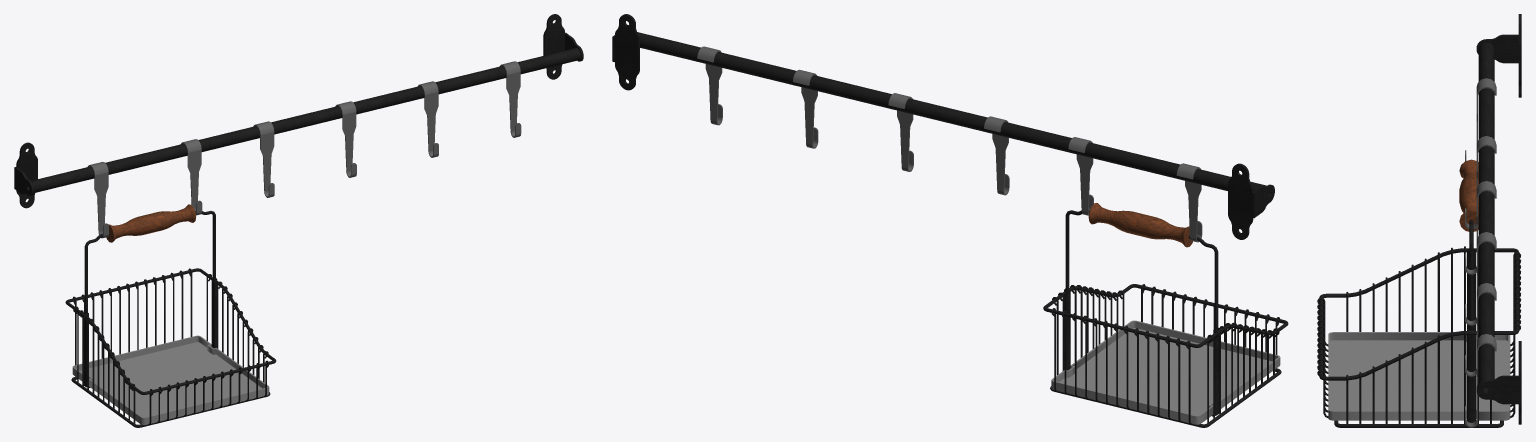
The model's file is 062 - stand divari jadid meshki.glb.
3 views of the same model, side by side, from view 1: azimuth 30°, elevation 25°; view 2: azimuth 150°, elevation 25°; view 3: azimuth 270°, elevation 25° (orthographic). The views are drawn at different scales.
Parts seen in each view (by area): view 1: Group#1 [26930], Group#6 [17909], Group#7 [26909] (×6), Group#13 [26931], Group#88 [26928], [3106], [3989], Group#2 [26929], Group#19 [26926]; view 2: Group#1 [26930], Group#6 [17909], Group#7 [26909] (×6), Group#88 [26928], Group#13 [26931], [3106], [3989], Group#2 [26929], Group#19 [26926]; view 3: Group#1 [26930], Group#6 [17909], Group#7 [26909] (×6), Group#13 [26931], Group#88 [26928], Group#3 [3642], Group#8 [4525], Group#11 [26927], Group#19 [26926], Group#2 [26929], Component#20 [23708] (×2), Component#16 [23699] (×2) (+6 smaller).
Part boxes in pixels (<box>): Group#1 [26930]: <box>72,335,269,424</box>; Group#6 [17909]: <box>31,48,580,192</box>; Group#7 [26909] (×6): <box>87,61,521,238</box>; Group#13 [26931]: <box>65,268,276,394</box>; Group#88 [26928]: <box>106,204,195,242</box>; [3106]: <box>543,14,564,79</box>; [3989]: <box>16,142,37,208</box>; Group#2 [26929]: <box>84,211,215,387</box>; Group#19 [26926]: <box>71,376,270,427</box>; Group#1 [26930]: <box>1051,320,1280,424</box>; Group#6 [17909]: <box>637,32,1266,191</box>; Group#7 [26909] (×6): <box>697,46,1202,242</box>; Group#88 [26928]: <box>1088,203,1192,247</box>; Group#13 [26931]: <box>1043,284,1288,347</box>; [3106]: <box>615,14,639,90</box>; [3989]: <box>1228,163,1253,239</box>; Group#2 [26929]: <box>1065,210,1218,416</box>; Group#19 [26926]: <box>1050,368,1281,427</box>; Group#1 [26930]: <box>1328,332,1510,420</box>; Group#6 [17909]: <box>1478,42,1494,391</box>; Group#7 [26909] (×6): <box>1465,78,1496,427</box>; Group#13 [26931]: <box>1319,248,1519,380</box>; Group#88 [26928]: <box>1459,159,1478,231</box>; Group#3 [3642]: <box>1476,375,1521,404</box>; Group#8 [4525]: <box>1476,34,1518,63</box>; Group#11 [26927]: <box>1467,328,1475,422</box>; Group#19 [26926]: <box>1334,420,1503,427</box>; Group#2 [26929]: <box>1469,219,1473,330</box>; Component#20 [23708] (×2): <box>1437,252,1439,423</box>; Component#16 [23699] (×2): <box>1424,258,1426,423</box>.
Bounding box in the file's own units: 0.806 × 0.337 × 0.2035.
6 materials, 4 textured.
